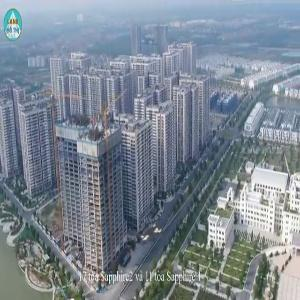drone: (115, 197, 186, 268)
